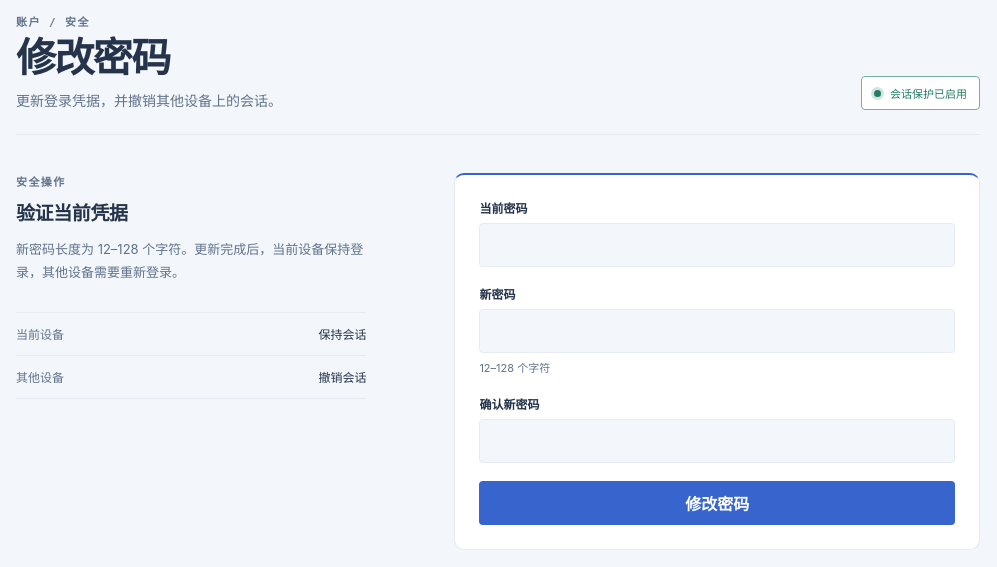
Test: SecurityPage › rejects invalid new-password values before the API (short)
The width and height of the screenshot is (997, 567).
Type "current-secret" into the password field labelled "当前密码".
click(717, 245); type("current-secret")  # box [479,223,955,267]
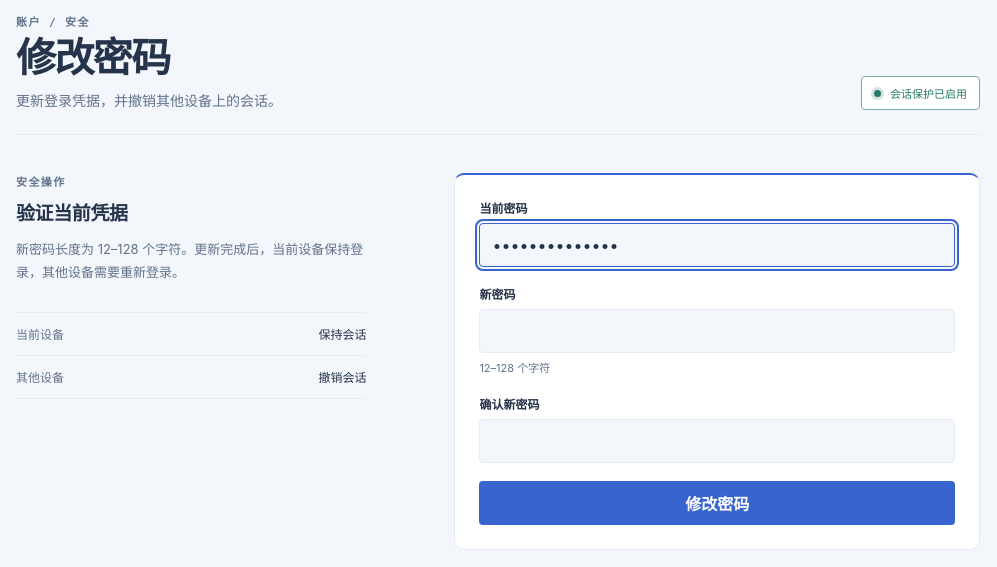
Type "short" into the password field labelled "新密码".
click(717, 331); type("short")  # box [479,309,955,353]
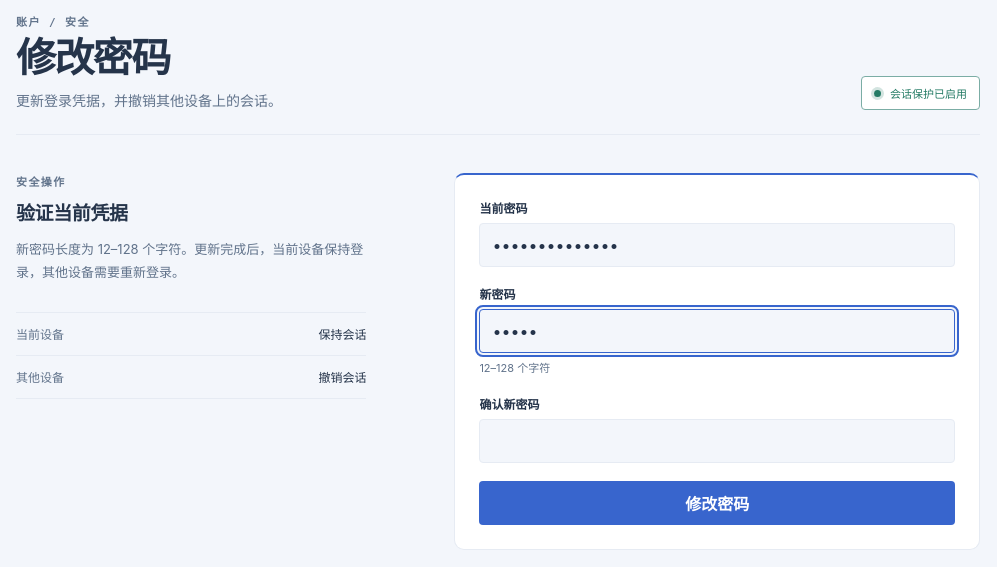
Type "short" into the password field labelled "确认新密码".
click(717, 440); type("short")  # box [479,418,955,462]
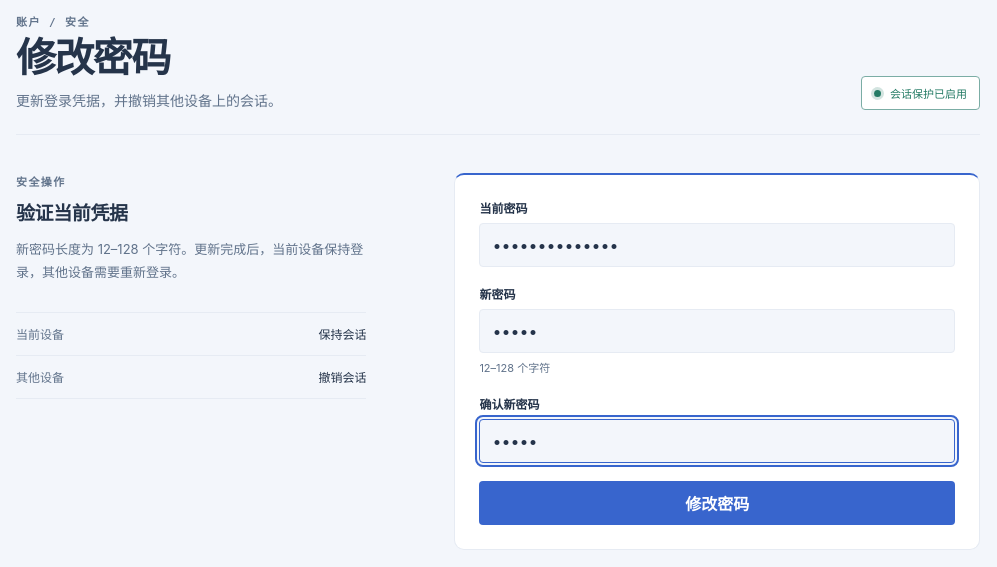
Click the button "修改密码".
click(717, 502)  # box [479,480,955,524]
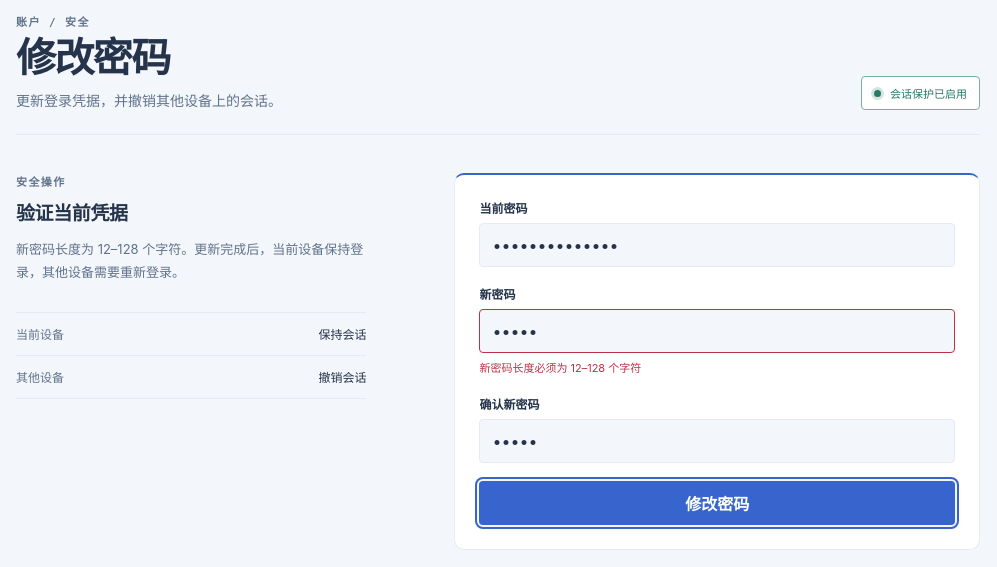
Expected: the text "新密码长度必须为 12–128 个字符" is shown, [479,361,641,375]
